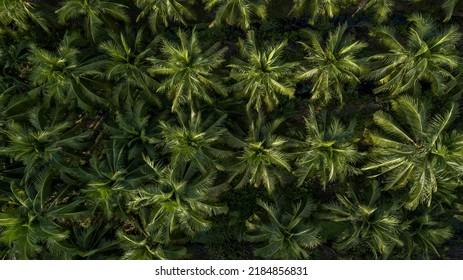coconut_tree: (370, 93, 462, 205), (369, 14, 462, 96), (297, 102, 369, 191), (300, 13, 372, 102), (231, 24, 303, 113), (154, 110, 225, 180), (232, 120, 295, 192), (74, 143, 137, 215), (88, 29, 151, 101), (23, 36, 86, 108), (6, 112, 69, 184), (158, 32, 221, 104), (0, 187, 61, 259), (241, 206, 317, 261), (324, 210, 402, 261), (134, 181, 212, 231)
